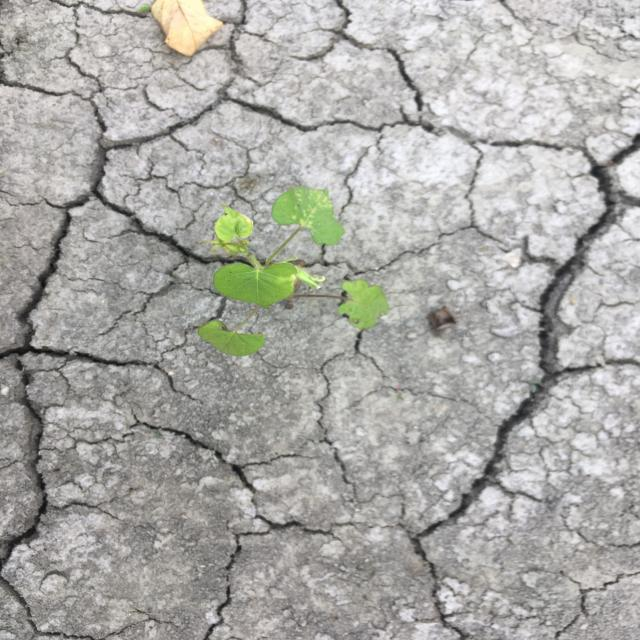MorningGlory: (196, 185, 392, 359)
